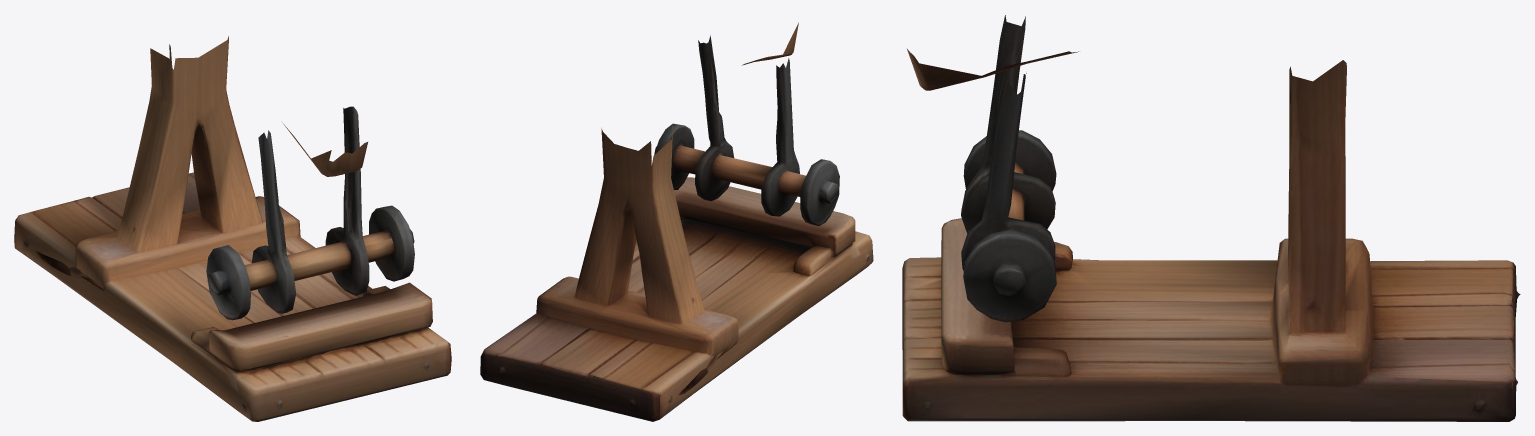
File: jack_base.glb
3 views of the same model, side by side, from view 1: azimuth 30°, elevation 25°; view 2: azimuth 150°, elevation 25°; view 3: azimuth 270°, elevation 25° (orthographic). The views are drawn at different scales.
Visible parts, largest first — view 1: geometry_0; view 2: geometry_0; view 3: geometry_0.
Part boxes in pixels (x1,y1,x2,y2): geometry_0: (14, 36, 451, 421); geometry_0: (480, 22, 873, 421); geometry_0: (902, 15, 1520, 421).
Bounding box in the file's own units: 1.41 × 1.68 × 2.91.
Materials: 1 (1 with a texture image).
